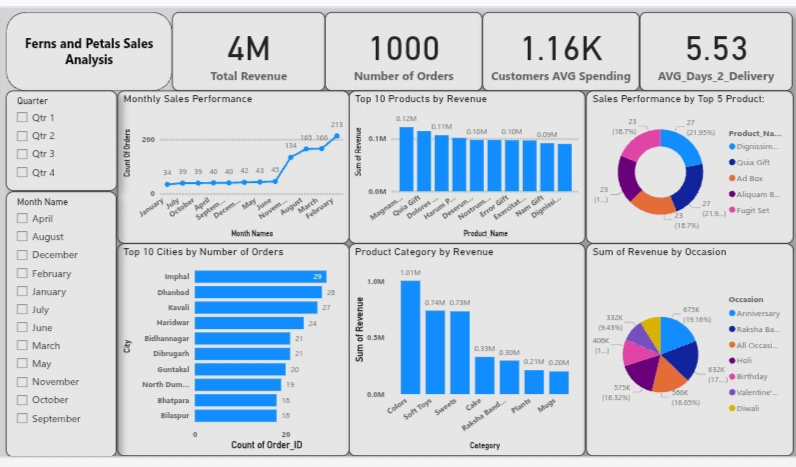

What the dashboard file says about the page in this screenshot:
{"tool":"powerbi","page":{"name":"Dashboard","canvas":[1280,720],"ordinal":0},"visuals":[{"type":"card","fields":{"Values":["Products.Total Revenue"]},"box":[274.9,9.3,244.7,126.4],"z":0},{"type":"card","fields":{"Values":["CountNonNull(orders.Order_ID)"]},"box":[519.6,9.3,251.7,126.4],"z":1000},{"type":"card","fields":{"Values":["Avg(orders.Price)"]},"box":[771.3,9.3,251.7,126.4],"z":2000},{"type":"card","fields":{"Values":["Avg(orders.Days)"]},"box":[1023,9.3,244.7,126.4],"z":3000},{"type":"shape","box":[9.3,9.3,265.6,126.4],"z":4000},{"type":"lineChart","title":"Monthly Sales Performance","fields":{"Category":["orders.Month Name"],"Y":["CountNonNull(orders.Order_ID)"]},"box":[186.7,135.7,371.2,244.7],"z":5000},{"type":"columnChart","title":"Top 10 Products by Revenue","fields":{"Category":["Products.Product_Name"],"Y":["Sum(orders.Revenue)"]},"box":[557.9,135.7,378.1,244.7],"z":6000},{"type":"donutChart","title":" Sales Performance by Top 5 Product:","fields":{"Category":["Products.Product_Name"],"Y":["CountNonNull(orders.Order_ID)"]},"box":[936,135.7,331.7,244.7],"z":7000},{"type":"barChart","title":"Top 10 Cities by Number of Orders","fields":{"Category":["customer.City"],"Y":["CountNonNull(orders.Order_ID)"]},"box":[186.7,380.4,371.2,339.8],"z":8000},{"type":"columnChart","title":"Product Category by Revenue","fields":{"Category":["Products.Category"],"Y":["Sum(orders.Revenue)"]},"box":[557.9,380.4,378.1,339.8],"z":9000},{"type":"pieChart","fields":{"Category":["Products.Occasion"],"Y":["Sum(orders.Revenue)"]},"box":[936,380.4,331.7,339.8],"z":10000},{"type":"slicer","fields":{"Values":["orders.Order_Date.Variation.Date Hierarchy.Quarter"]},"box":[9.3,135.7,177.5,160.1],"z":11000},{"type":"slicer","fields":{"Values":["orders.Month Name"]},"box":[9.3,295.8,176.3,424.5],"z":12000}]}

Visuals, with their boxes on the page's 1280x720 design canvas (x1, y1, x2, y2). These are canvas units, not pixel positions in the 796x467 screenshot, which may show the page scaled, cropped or inside an application window:
card - Products.Total Revenue: <region>275, 9, 520, 136</region>
card - CountNonNull(orders.Order_ID): <region>520, 9, 771, 136</region>
card - Avg(orders.Price): <region>771, 9, 1023, 136</region>
card - Avg(orders.Days): <region>1023, 9, 1268, 136</region>
shape: <region>9, 9, 275, 136</region>
"Monthly Sales Performance" lineChart: <region>187, 136, 558, 380</region>
"Top 10 Products by Revenue" columnChart: <region>558, 136, 936, 380</region>
" Sales Performance by Top 5 Product:" donutChart: <region>936, 136, 1268, 380</region>
"Top 10 Cities by Number of Orders" barChart: <region>187, 380, 558, 720</region>
"Product Category by Revenue" columnChart: <region>558, 380, 936, 720</region>
pieChart - Products.Occasion x Sum(orders.Revenue): <region>936, 380, 1268, 720</region>
slicer - orders.Order_Date.Variation.Date Hierarchy.Quarter: <region>9, 136, 187, 296</region>
slicer - orders.Month Name: <region>9, 296, 186, 720</region>
